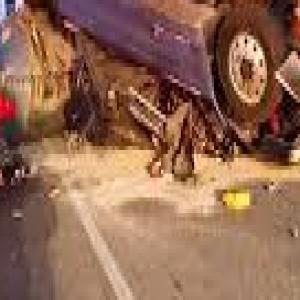severe: (0, 0, 300, 170)
